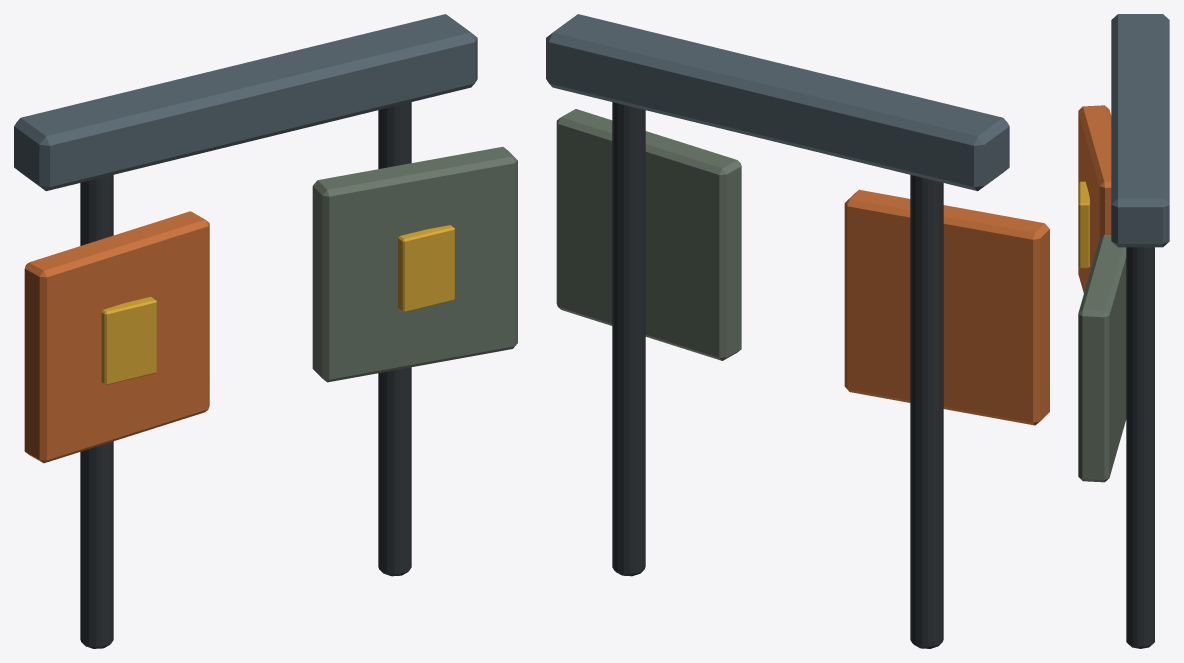
Rendered from PRP_CITY_020_storefront_flag_pair.glb.
The picture shows the model from 3 angles, left to right: view 1: azimuth 30°, elevation 25°; view 2: azimuth 150°, elevation 25°; view 3: azimuth 270°, elevation 25°; orthographic projection. The views are drawn at different scales.
Visible parts, largest first — view 1: PRP_CITY_020_storefront_flag_pair_RenderMesh; view 2: PRP_CITY_020_storefront_flag_pair_RenderMesh; view 3: PRP_CITY_020_storefront_flag_pair_RenderMesh.
Boxes of the visible parts, x1=… form: PRP_CITY_020_storefront_flag_pair_RenderMesh: x1=14, y1=14, x2=517, y2=648; PRP_CITY_020_storefront_flag_pair_RenderMesh: x1=546, y1=14, x2=1049, y2=648; PRP_CITY_020_storefront_flag_pair_RenderMesh: x1=1078, y1=14, x2=1169, y2=648.
Bounding box in the file's own units: 1.1 × 1.16 × 0.2036.
